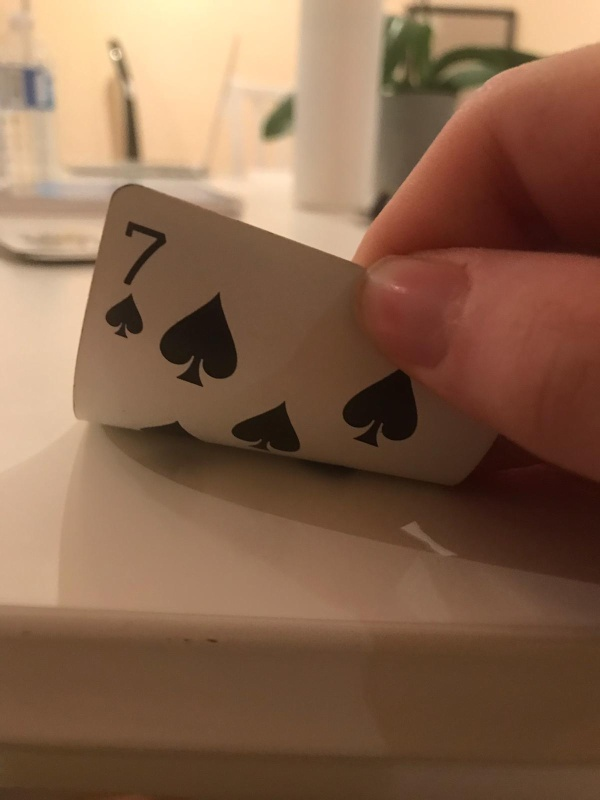S7: (102, 214, 165, 347)
